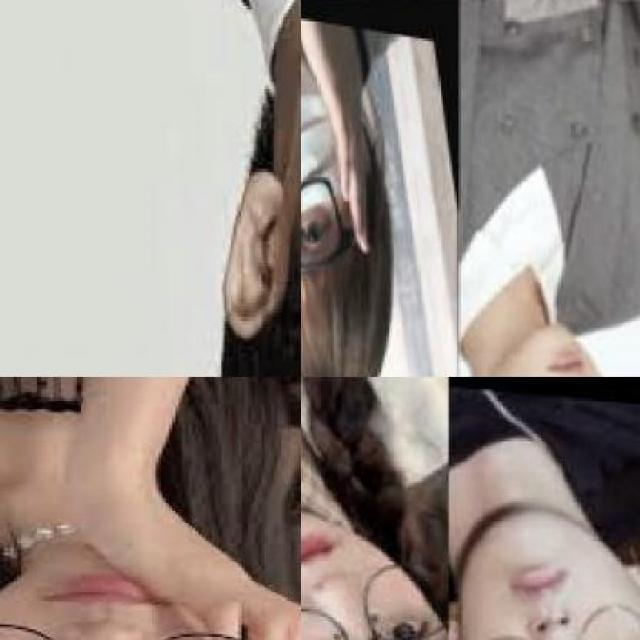glasses: (300, 554, 450, 638), (300, 174, 363, 267)
